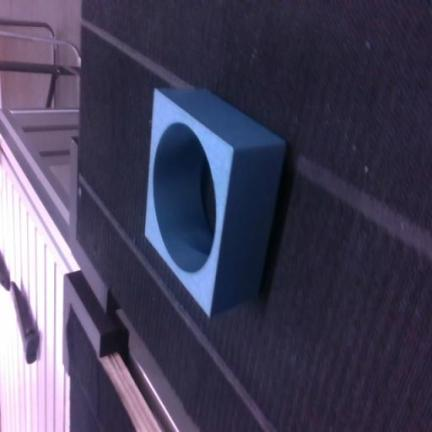hole: (145, 89, 284, 316)
